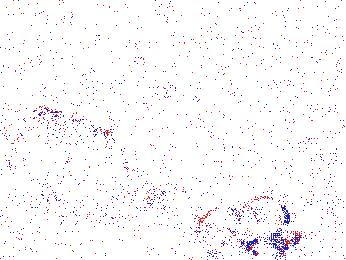flame jellyfish: (239, 195, 304, 253), (122, 136, 171, 207), (192, 206, 259, 256)
